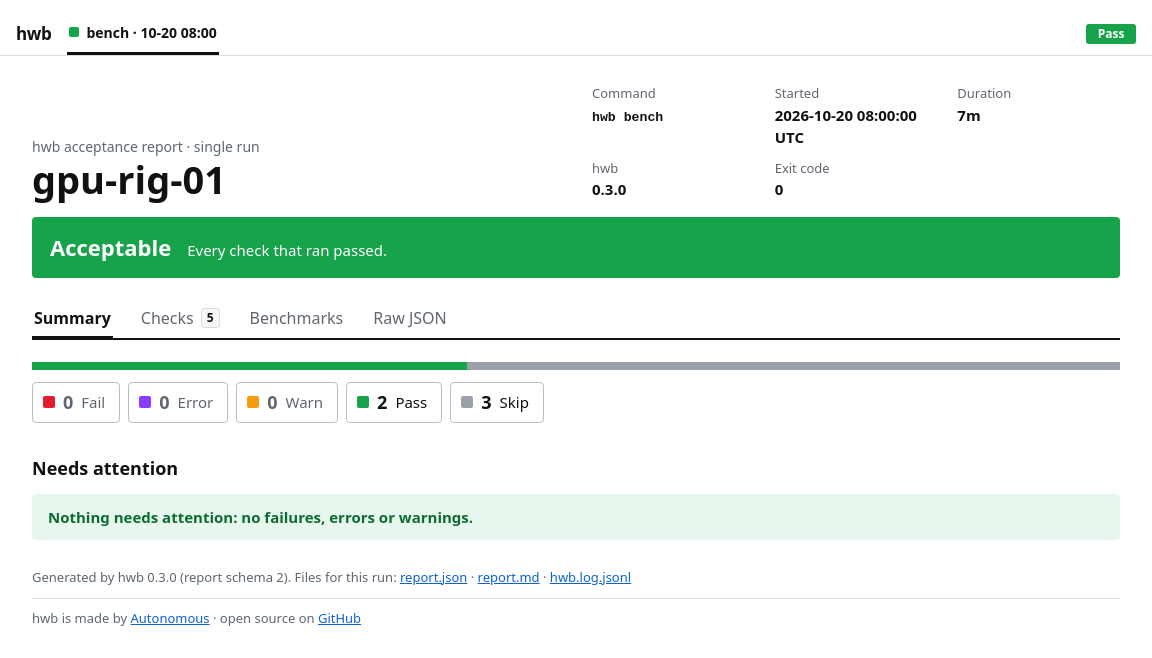
Test: benchmarks › shows headline numbers, charts per quantity and the phase table
Click the tab "Benchmarks": x=296, y=322 x1=248 y1=306 x2=345 y2=340
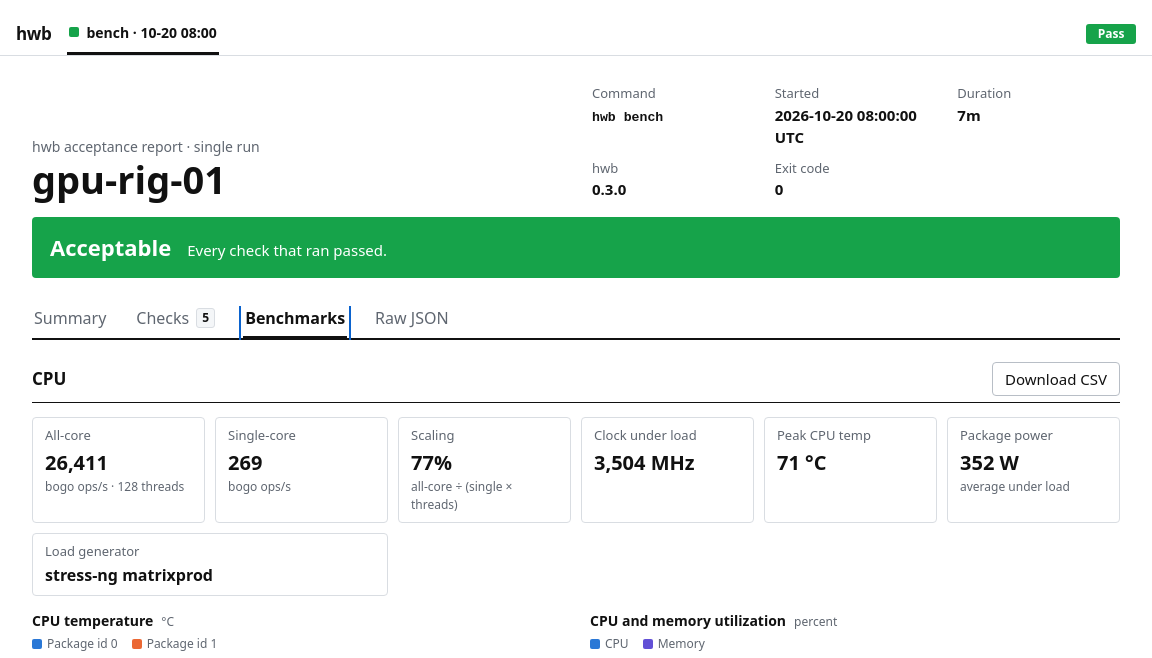
Check: the text "26,411" is shown, box x1=45 y1=448 x2=108 y2=476
Check: the text "77%" is shown, box x1=411 y1=448 x2=452 y2=476
